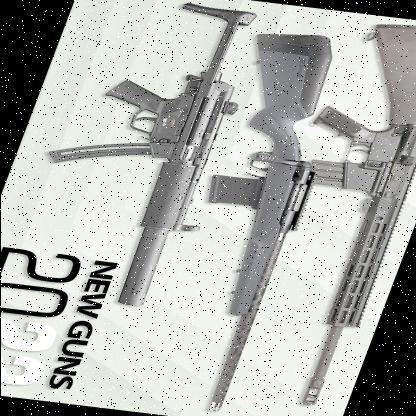rifle: (127, 26, 370, 414), (230, 20, 416, 416), (51, 0, 274, 252)
